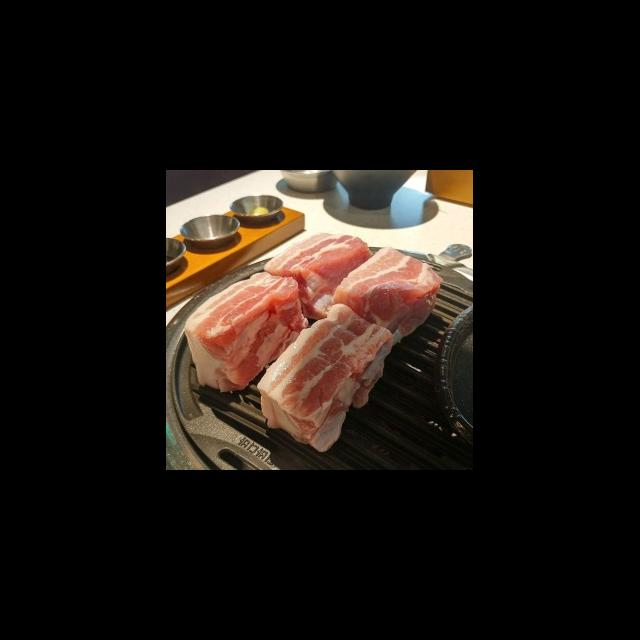beef: (257, 303, 394, 452), (184, 272, 308, 392), (334, 245, 441, 342), (265, 231, 372, 320)
